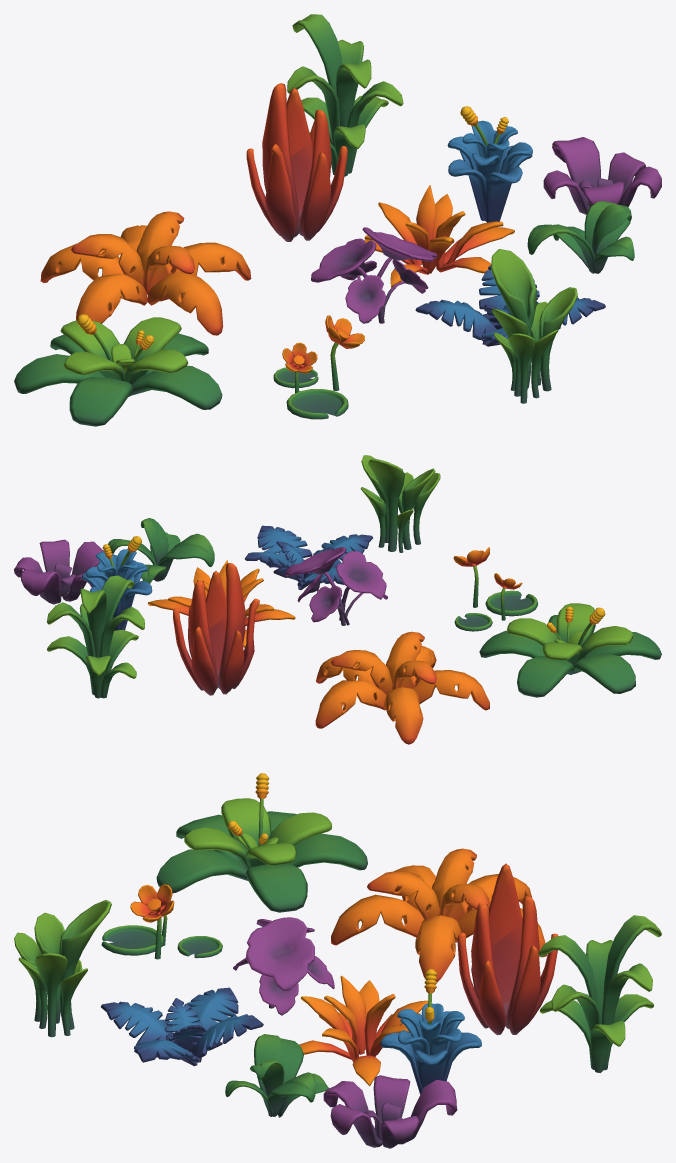
The model's file is Plants_02_Pack.fbx.
3 views of the same model, one above another, from view 1: azimuth 30°, elevation 25°; view 2: azimuth 150°, elevation 25°; view 3: azimuth 270°, elevation 25° (orthographic). The views are drawn at different scales.
Parts seen in each view (by area): view 1: Plant.005, Plant.003, Plant.007, Plant.047, Plant.020, Plant.024, Plant.013, Plant.004, Plant.037, Plant.008, Plant.010, Plant.006; view 2: Plant.005, Plant.003, Plant.007, Plant.047, Plant.020, Plant.024, Plant.004, Plant.006, Plant.010, Plant.008, Plant.037, Plant.013; view 3: Plant.003, Plant.005, Plant.007, Plant.047, Plant.006, Plant.020, Plant.004, Plant.013, Plant.024, Plant.037, Plant.010, Plant.008.
Boxes of the visible parts, x1,y1,x2,y2 form: Plant.005: (40, 211, 251, 335); Plant.003: (14, 317, 222, 426); Plant.007: (246, 83, 347, 241); Plant.047: (287, 14, 403, 176); Plant.020: (491, 249, 577, 403); Plant.024: (311, 227, 437, 323); Plant.013: (364, 185, 514, 287); Plant.004: (543, 137, 661, 214); Plant.037: (447, 120, 532, 222); Plant.008: (273, 315, 364, 419); Plant.010: (527, 201, 634, 273); Plant.006: (415, 265, 605, 346); Plant.005: (315, 631, 489, 744); Plant.003: (479, 603, 661, 697); Plant.007: (173, 563, 259, 695); Plant.047: (47, 575, 144, 698); Plant.020: (360, 455, 440, 552); Plant.024: (285, 547, 387, 625); Plant.004: (14, 539, 103, 604); Plant.006: (244, 525, 372, 589); Plant.010: (108, 518, 214, 583); Plant.008: (453, 547, 538, 631); Plant.037: (81, 549, 152, 630); Plant.013: (147, 560, 295, 647); Plant.003: (156, 798, 367, 912); Plant.005: (331, 848, 546, 982); Plant.007: (457, 863, 558, 1035); Plant.047: (538, 915, 661, 1072); Plant.006: (101, 987, 263, 1066); Plant.020: (14, 900, 111, 1037); Plant.004: (323, 1075, 457, 1148); Plant.013: (299, 975, 428, 1086); Plant.024: (233, 917, 334, 1015); Plant.037: (380, 1003, 481, 1094); Plant.010: (225, 1034, 328, 1117); Plant.008: (101, 884, 222, 959).
Size of the model in its own units: 5358 by 1170 by 4407.
